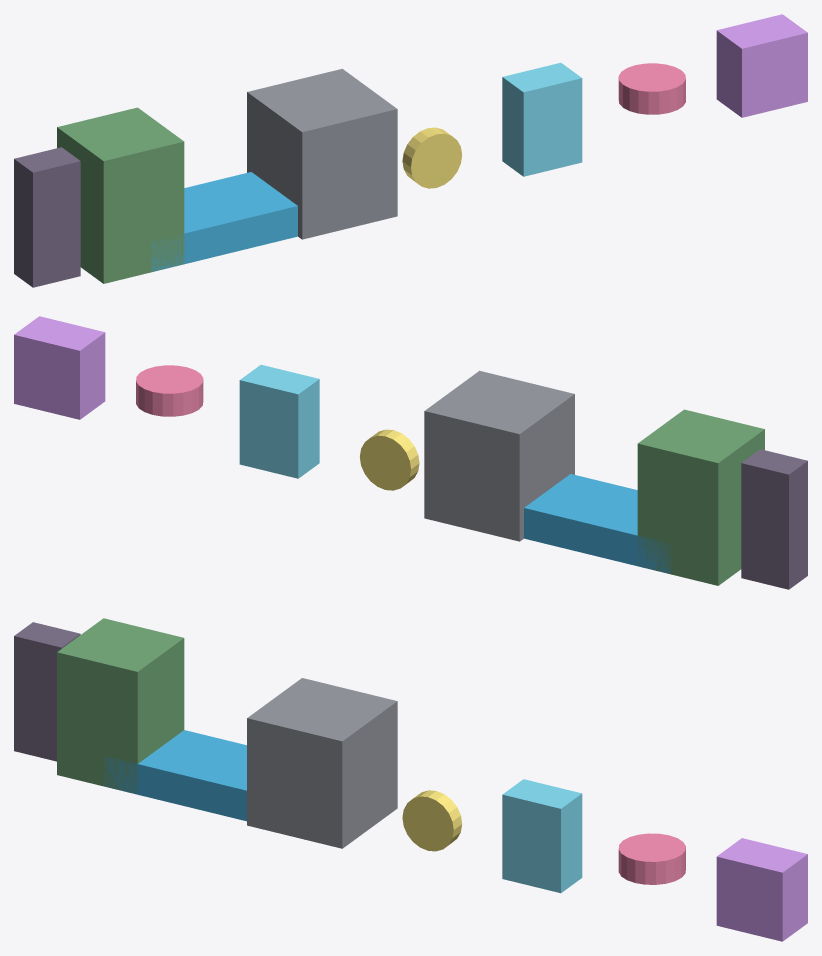
File: game_props.glb
3 views of the same model, one above another, from view 1: azimuth 30°, elevation 25°; view 2: azimuth 150°, elevation 25°; view 3: azimuth 330°, elevation 25° (orthographic).
Parts seen in each view (by area): view 1: Prop_rock, Prop_thorn, Prop_beam, Prop_water, Prop_pickup_magnet, Prop_pickup_double, Prop_pickup_shield, Prop_coin; view 2: Prop_rock, Prop_thorn, Prop_water, Prop_beam, Prop_pickup_magnet, Prop_pickup_double, Prop_pickup_shield, Prop_coin; view 3: Prop_rock, Prop_thorn, Prop_water, Prop_pickup_magnet, Prop_pickup_double, Prop_beam, Prop_pickup_shield, Prop_coin.
Boxes of the visible parts, x1=… form: Prop_rock: x1=247, y1=68, x2=397, y2=239; Prop_thorn: x1=57, y1=107, x2=184, y2=283; Prop_beam: x1=14, y1=147, x2=80, y2=287; Prop_water: x1=151, y1=172, x2=297, y2=271; Prop_pickup_magnet: x1=502, y1=62, x2=582, y2=176; Prop_pickup_double: x1=716, y1=14, x2=807, y2=117; Prop_pickup_shield: x1=618, y1=63, x2=685, y2=114; Prop_coin: x1=402, y1=127, x2=461, y2=188; Prop_rock: x1=424, y1=370, x2=574, y2=541; Prop_thorn: x1=637, y1=409, x2=764, y2=585; Prop_water: x1=524, y1=474, x2=670, y2=573; Prop_beam: x1=741, y1=449, x2=807, y2=589; Prop_pickup_magnet: x1=239, y1=364, x2=319, y2=478; Prop_pickup_double: x1=14, y1=316, x2=105, y2=419; Prop_pickup_shield: x1=136, y1=365, x2=203, y2=416; Prop_coin: x1=360, y1=429, x2=419, y2=490; Prop_rock: x1=247, y1=678, x2=397, y2=848; Prop_thorn: x1=57, y1=618, x2=184, y2=793; Prop_water: x1=104, y1=730, x2=246, y2=821; Prop_pickup_magnet: x1=502, y1=779, x2=582, y2=893; Prop_pickup_double: x1=716, y1=838, x2=807, y2=941; Prop_beam: x1=14, y1=622, x2=80, y2=761; Prop_pickup_shield: x1=618, y1=833, x2=685, y2=884; Prop_coin: x1=402, y1=790, x2=461, y2=851.
Bounding box in the file's own units: 421 × 68 × 52.
